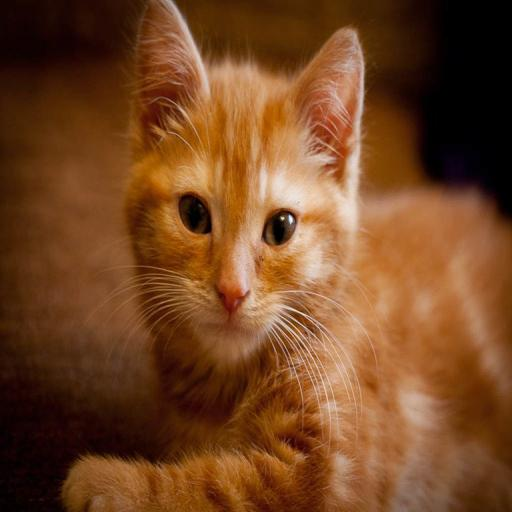cat: (61, 0, 512, 512)
